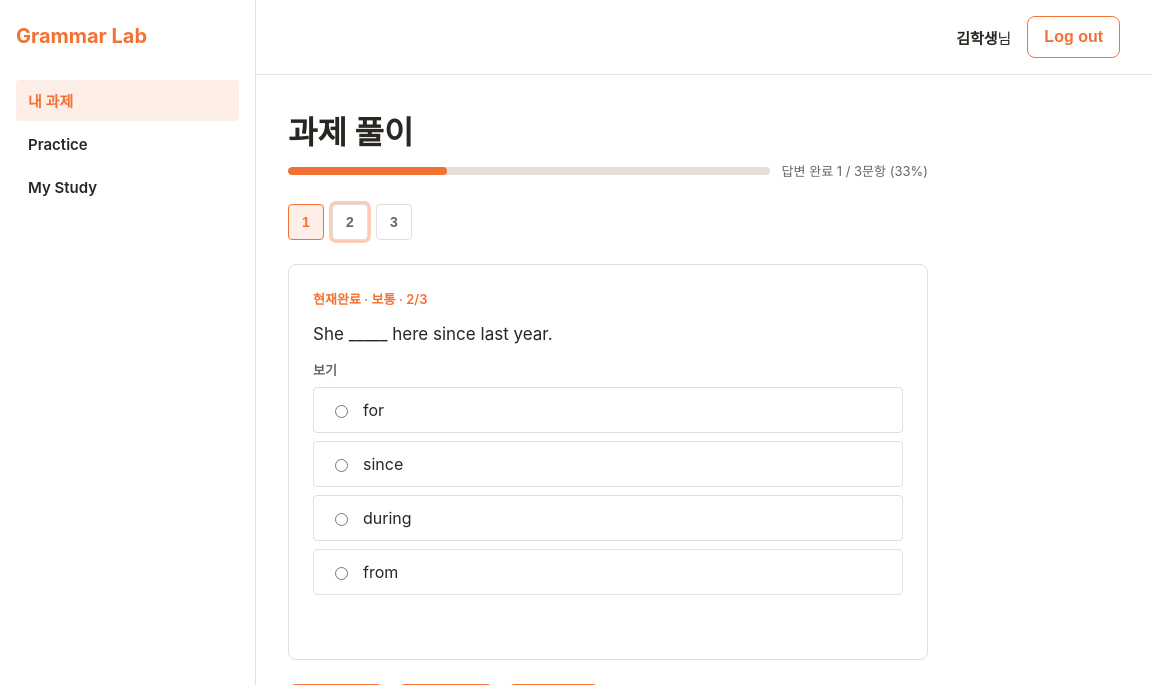
StudentAssignmentSolvePage › shows answered progress and only updates it once the draft save is confirmed persisted
The image size is (1152, 685).
Expected: the text "She _____ here since last year." is shown, [313,324,553,344]
Expected: the text "답변 완료 1 / 3문항 (33%)" is shown, [782,161,928,180]
Click the radio button labelled "for" at (342, 412), box [335,405,348,418]
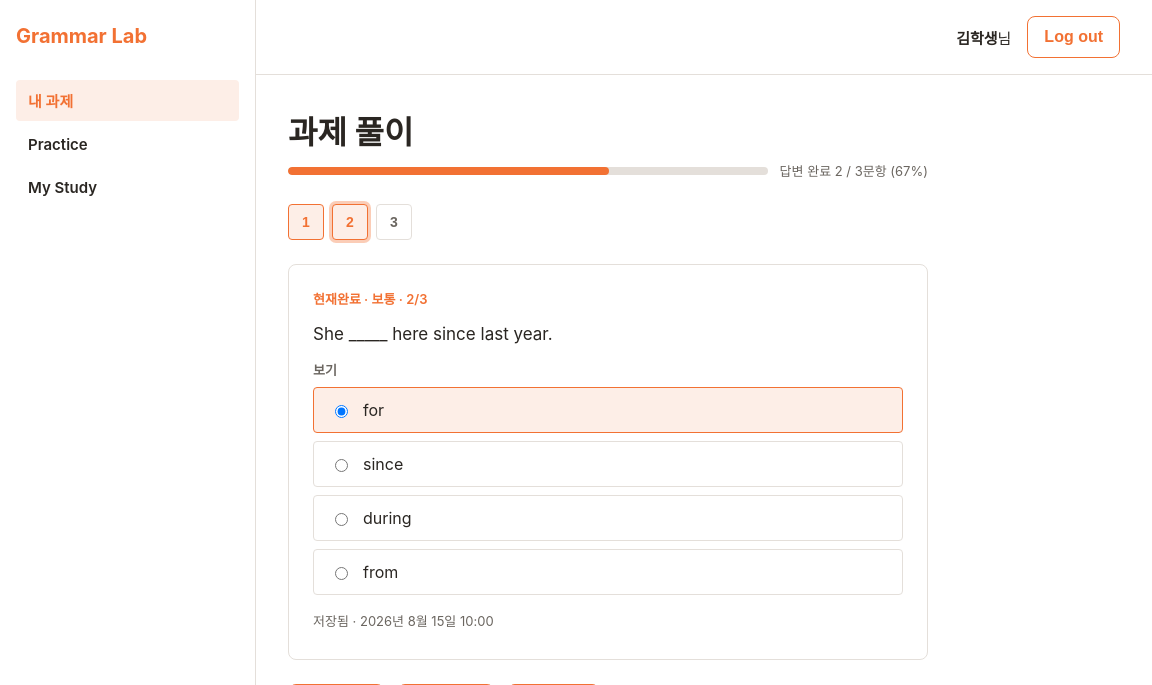
Now the text "답변 완료 2 / 3문항 (67%)" is shown, box [780,161,928,180]
